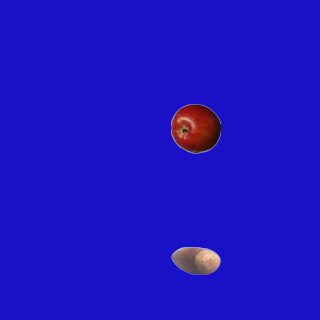Apple Braeburn: (170, 103, 220, 153)
Hazelnut: (170, 235, 220, 285)
